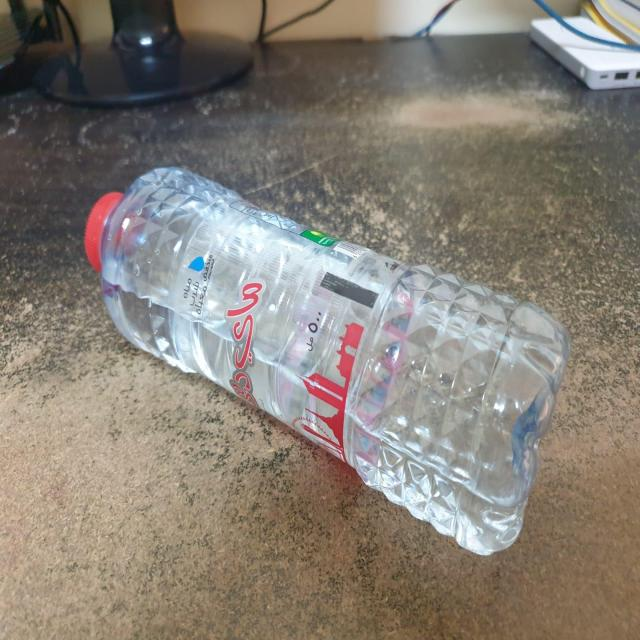bottle: (66, 157, 575, 569)
